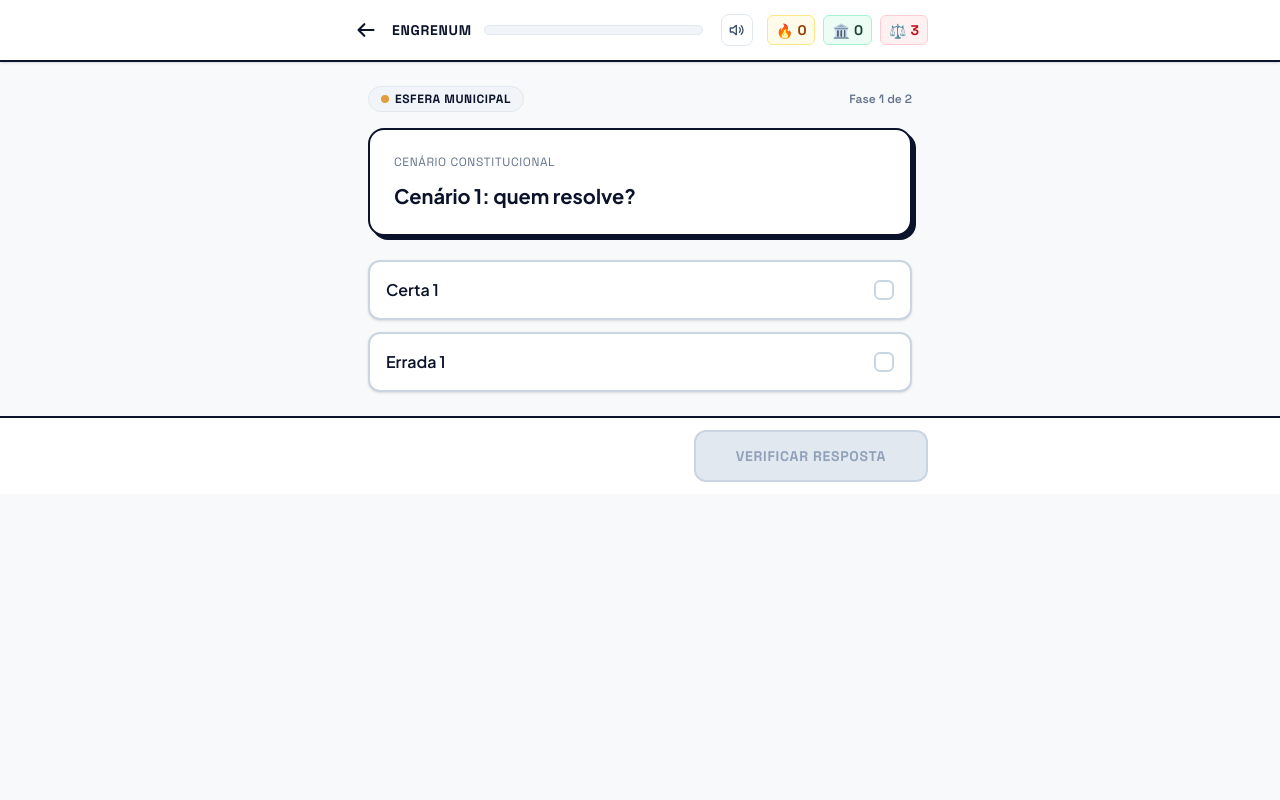
Test: EngrenumQuiz › locks the options and explains a correct answer
Click the button "Certa 1".
click(412, 289)  # box x1=368 y1=260 x2=912 y2=320
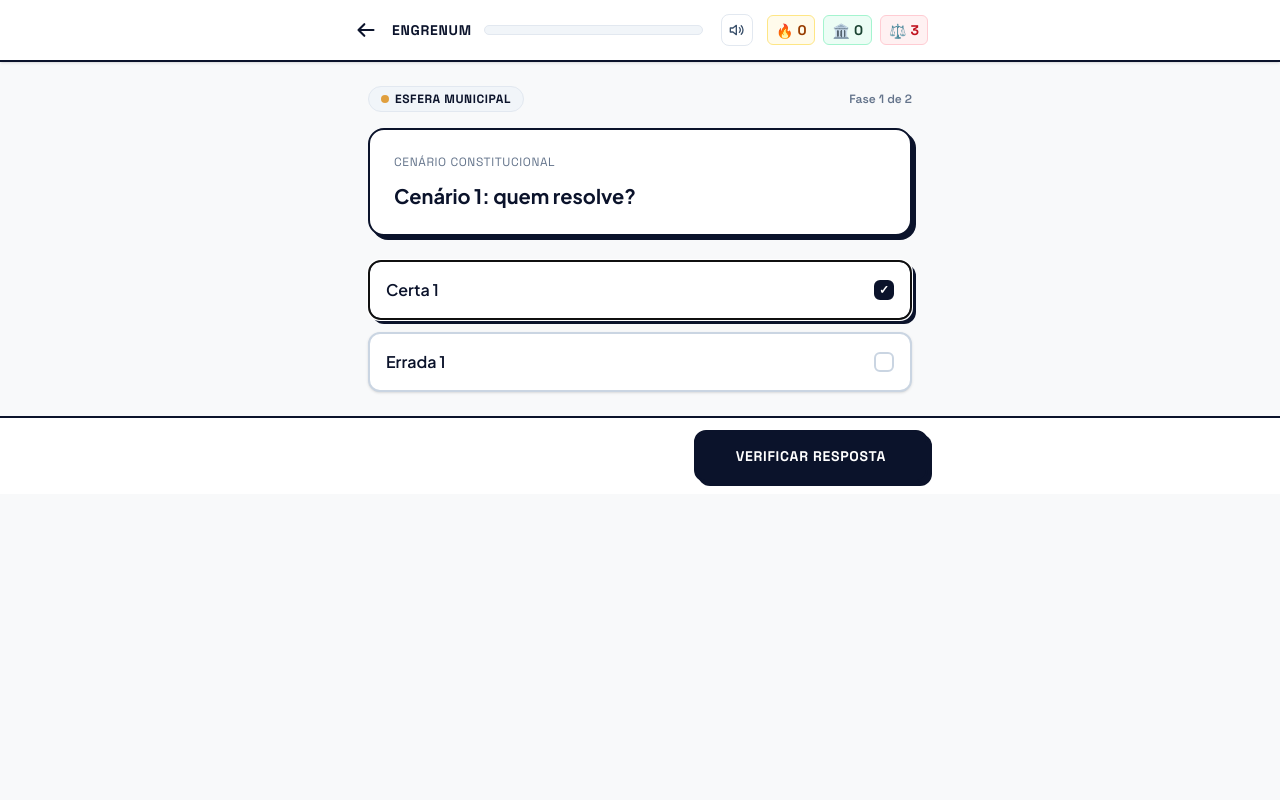
Click the button "Verificar Resposta".
click(811, 456)  # box x1=694 y1=430 x2=928 y2=482
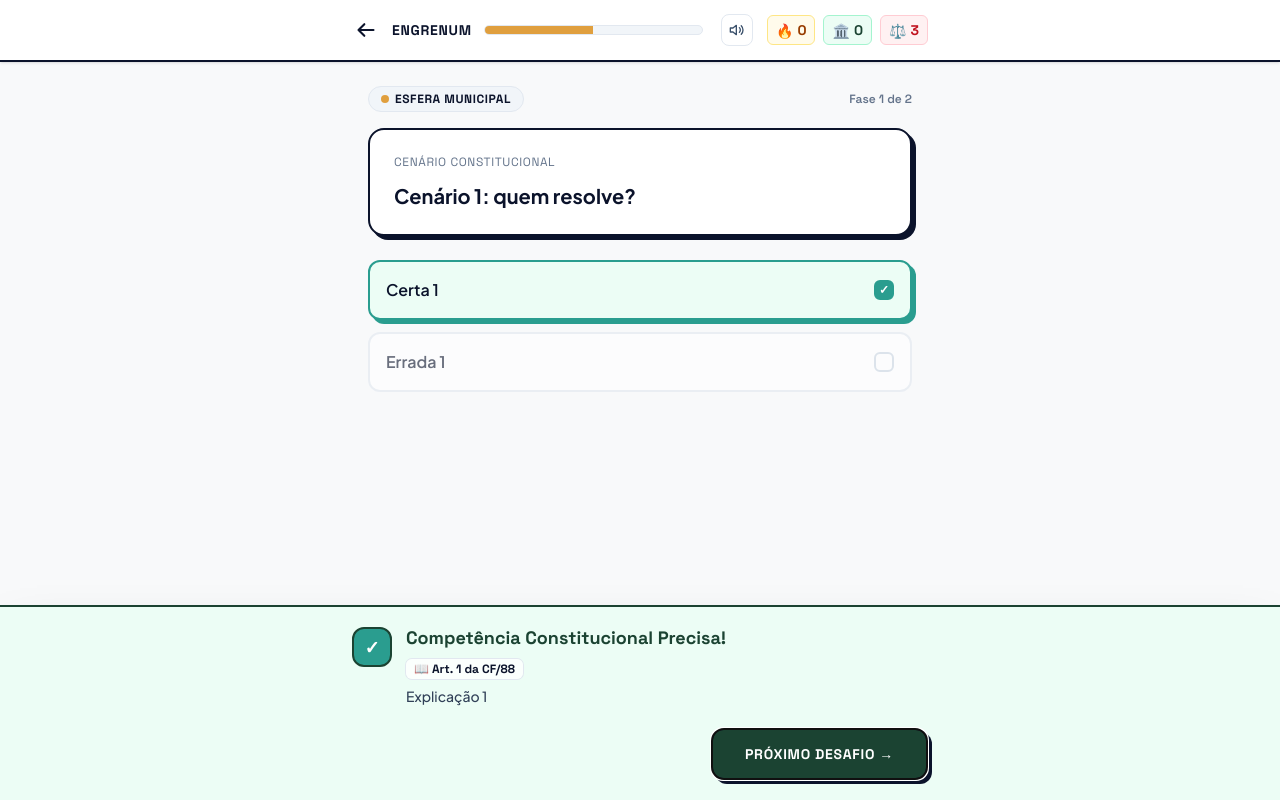
Result: the message shows "Competência Constitucional Precisa!" at x1=406 y1=626 x2=726 y2=649
Result: the text "📖 Art. 1 da CF/88" is shown at x1=406 y1=659 x2=523 y2=679
Result: the text "Explicação 1" is shown at x1=406 y1=687 x2=487 y2=705
